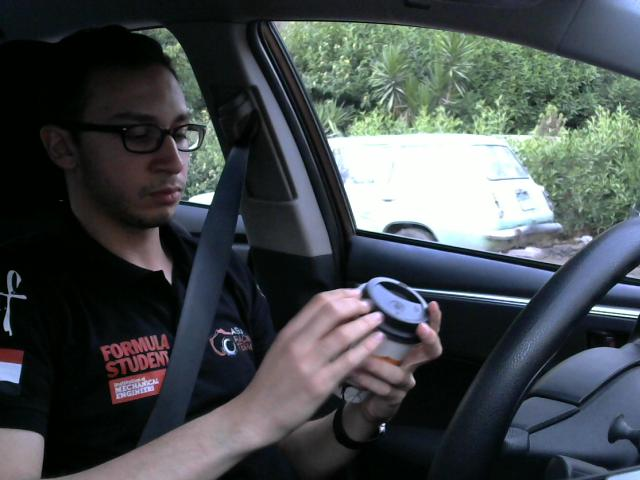Drinking: (320, 271, 439, 425)
